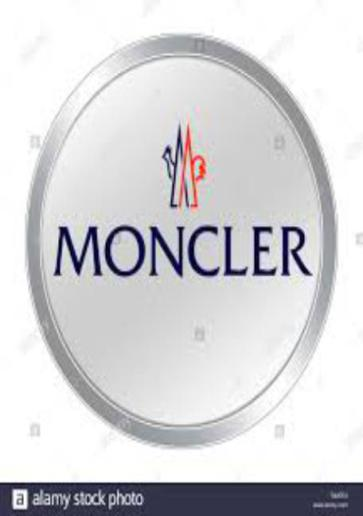MONCLER: (48, 220, 315, 280), (158, 118, 212, 214)
